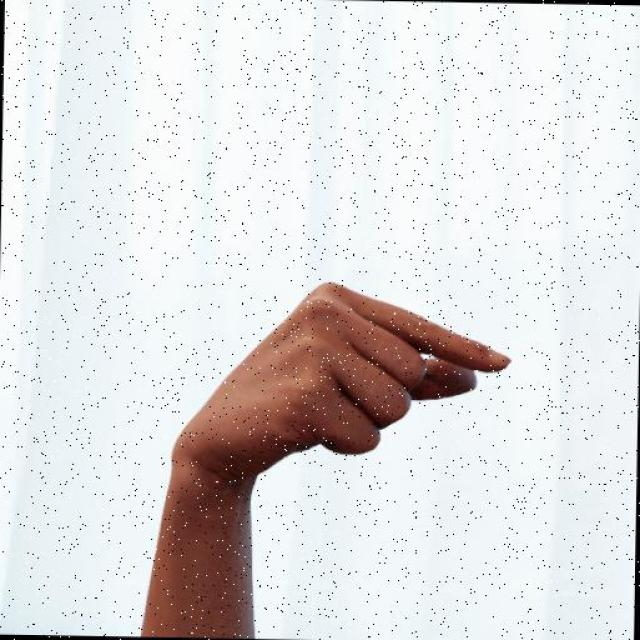G: (172, 275, 520, 534)
